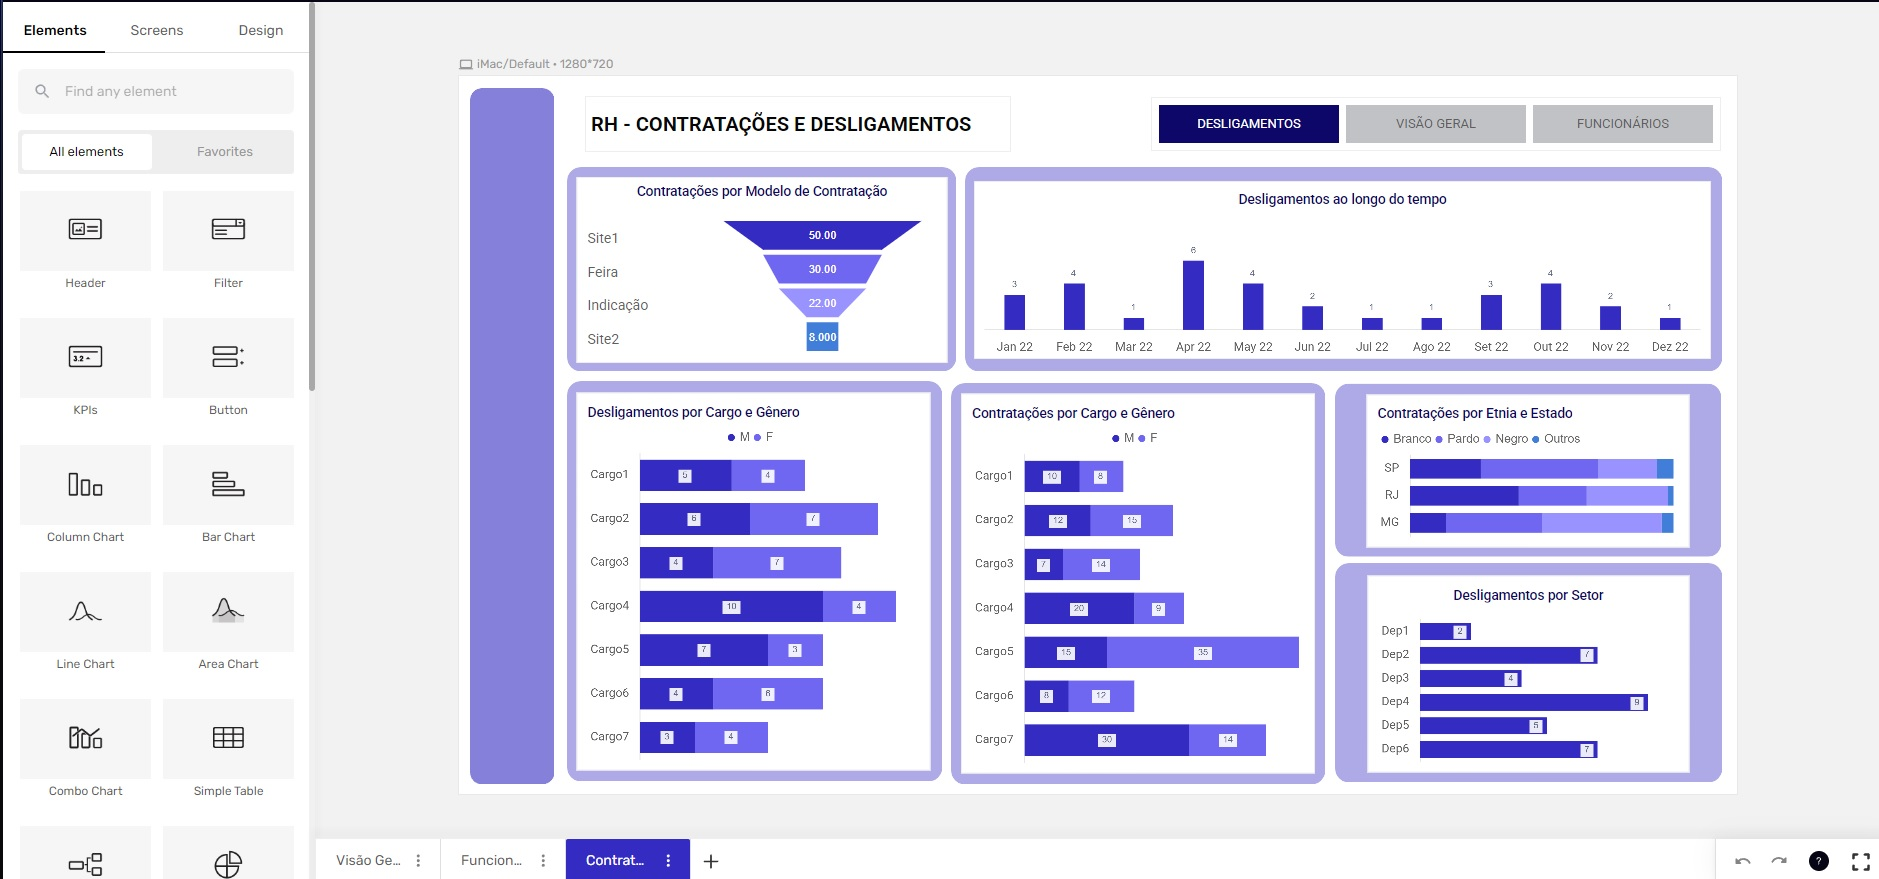

This screenshot's page, from the dashboard's own definition file:
{"tool":"powerbi","page":{"name":"Contratações e Desligamentos","canvas":[1280,720],"ordinal":2},"visuals":[{"type":"funnel","fields":{"Category":["dContratacoes.RecruitmentSource"],"Y":["Medidas.admissoes"]},"box":[123.8,154.8,389.9,205.1],"z":0},{"type":"barChart","fields":{"Category":["dDesligamentos.Position"],"Series":["dDesligamentos.Sex"],"Y":["Medidas.desligamentos"]},"box":[116.1,403.4,397.6,308.6],"z":1000},{"type":"columnChart","fields":{"Category":["dDesligamentos.Department"],"Y":["Medidas.desligamentos"]},"box":[513.7,154.8,402.5,205.1],"z":2000},{"type":"barChart","fields":{"Y":["Medidas.admissoes"],"Category":["dContratacoes.Position"],"Series":["dContratacoes.Sex"]},"box":[513.7,400.5,411.2,311.5],"z":3000},{"type":"barChart","fields":{"Category":["dDesligamentos.TermReason"],"Y":["Medidas.desligamentos"]},"box":[933.6,470.2,325.1,231.2],"z":4000},{"type":"hundredPercentStackedColumnChart","fields":{"Y":["Medidas.admissoes"],"Category":["dContratacoes.RaceDesc"],"Series":["dContratacoes.Sex"]},"box":[894,154.8,386,245.7],"z":5000},{"type":"image","box":[6.8,221.6,77.4,73.5],"z":6000},{"type":"image","box":[9.7,336.7,69.7,85.1],"z":7000}]}

Visuals, with their boxes on the page's 1280x720 design canvas (x1, y1, x2, y2). These are canvas units, not pixel positions in the 1879x879 screenshot, which may show the page scaled, cropped or inside an application window:
funnel - dContratacoes.RecruitmentSource x Medidas.admissoes: bbox=[124, 155, 514, 360]
barChart - dDesligamentos.Position x dDesligamentos.Sex: bbox=[116, 403, 514, 712]
columnChart - dDesligamentos.Department x Medidas.desligamentos: bbox=[514, 155, 916, 360]
barChart - Medidas.admissoes x dContratacoes.Position: bbox=[514, 400, 925, 712]
barChart - dDesligamentos.TermReason x Medidas.desligamentos: bbox=[934, 470, 1259, 701]
hundredPercentStackedColumnChart - Medidas.admissoes x dContratacoes.RaceDesc: bbox=[894, 155, 1280, 400]
image: bbox=[7, 222, 84, 295]
image: bbox=[10, 337, 79, 422]
